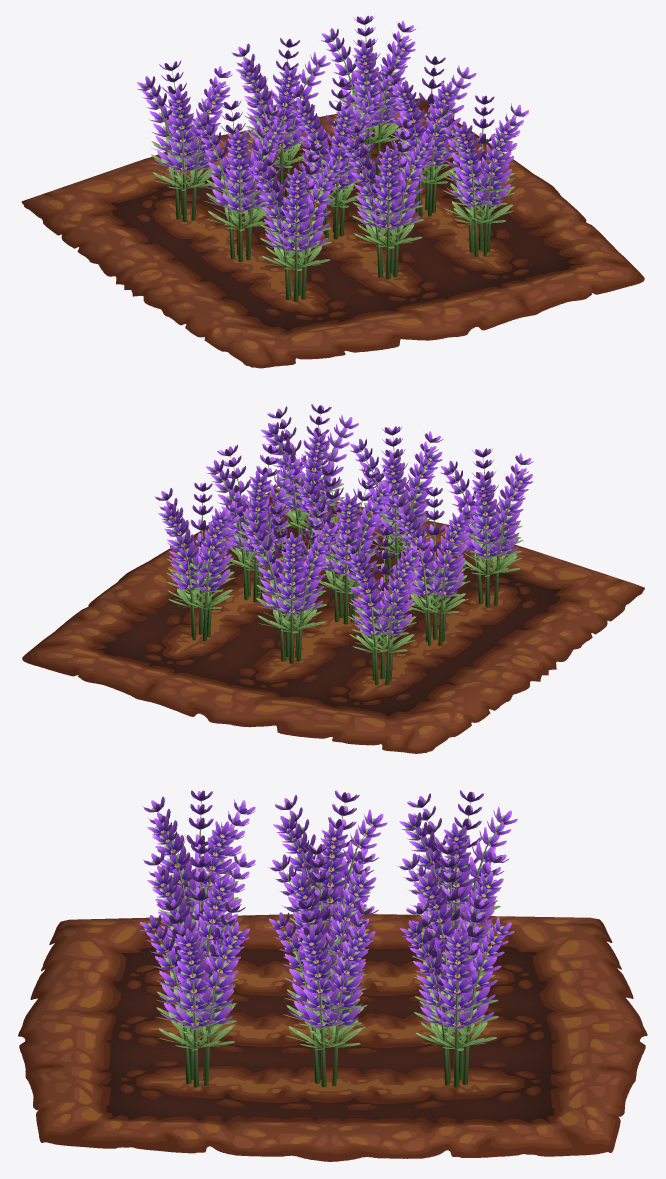
The model's file is Lavender_Field_Lv3.FBX.
The picture shows the model from 3 angles, top to bottom: view 1: azimuth 30°, elevation 25°; view 2: azimuth 150°, elevation 25°; view 3: azimuth 270°, elevation 25°; orthographic projection. The views are drawn at different scales.
Visible parts, largest first — view 1: Lavender_Field_Lv3; view 2: Lavender_Field_Lv3; view 3: Lavender_Field_Lv3.
Part boxes in pixels (x1=…): Lavender_Field_Lv3: x1=21, y1=15, x2=644, y2=368; Lavender_Field_Lv3: x1=22, y1=404, x2=644, y2=753; Lavender_Field_Lv3: x1=18, y1=790, x2=647, y2=1161.
Bounding box in the file's own units: 274 × 91.59 × 296.
